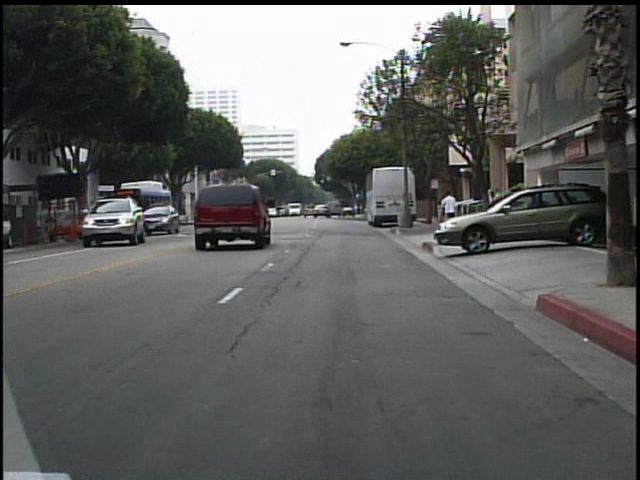person: (438, 189, 459, 237)
